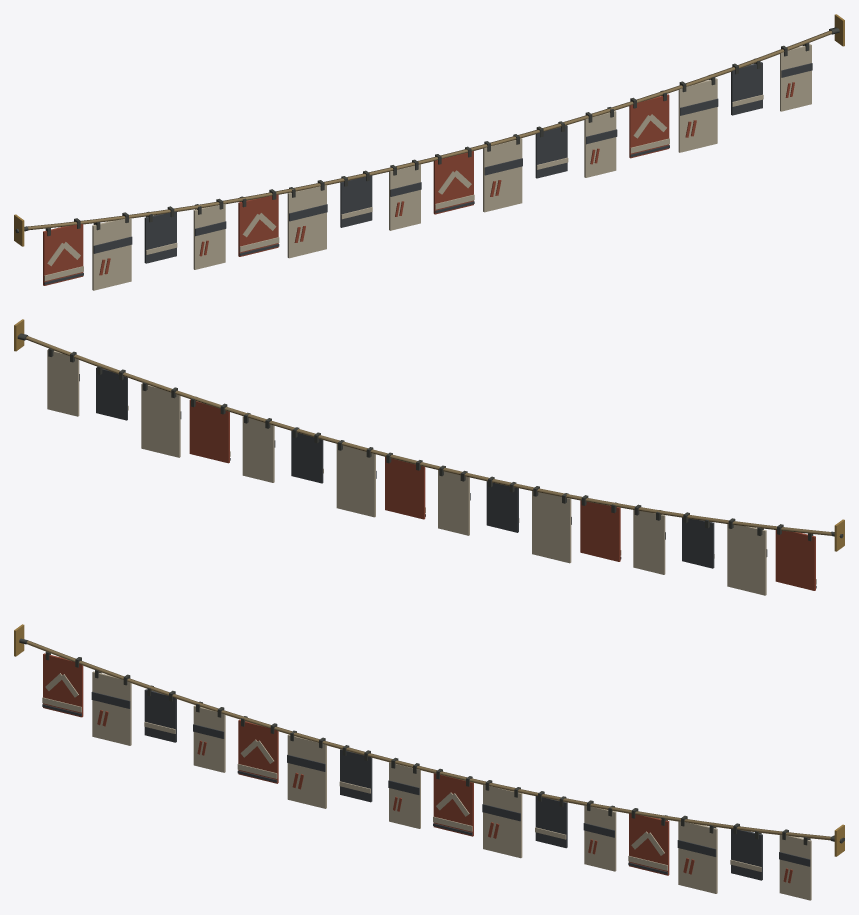
The model's file is laundry_goods_8.glb.
3 renders of one model, top to bottom at view 1: azimuth 30°, elevation 25°; view 2: azimuth 150°, elevation 25°; view 3: azimuth 330°, elevation 25°, orthographic.
Visible parts, largest first — view 1: laundry_goods_8; view 2: laundry_goods_8; view 3: laundry_goods_8.
Part boxes in pixels (bbox=[...]): laundry_goods_8: bbox=[14, 14, 844, 290]; laundry_goods_8: bbox=[14, 319, 844, 595]; laundry_goods_8: bbox=[14, 624, 844, 900].
Bounding box in the file's own units: 8.03 × 1 × 0.14.
